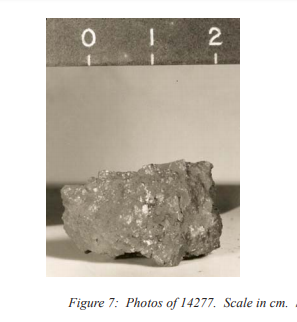Breccia: (63, 159, 227, 265)
